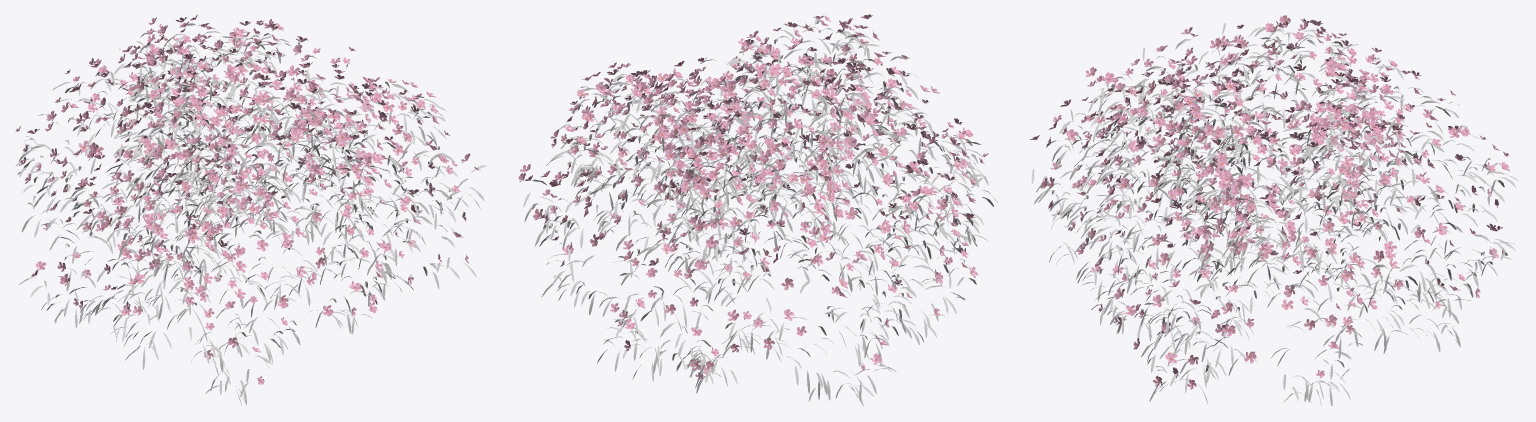
File: MESH_BS09_NeriumOleander_A_LOD2.fbx
The picture shows the model from 3 angles, left to right: view 1: azimuth 30°, elevation 25°; view 2: azimuth 150°, elevation 25°; view 3: azimuth 270°, elevation 25°; orthographic projection. The views are drawn at different scales.
Parts seen in each view (by area): view 1: MI_LOD2_001, MI_LOD2_002; view 2: MI_LOD2_001, MI_LOD2_002; view 3: MI_LOD2_001, MI_LOD2_002.
Boxes of the visible parts, x1=… form: MI_LOD2_001: x1=15, y1=23, x2=486, y2=405; MI_LOD2_002: x1=15, y1=14, x2=480, y2=384; MI_LOD2_001: x1=523, y1=18, x2=997, y2=406; MI_LOD2_002: x1=518, y1=14, x2=988, y2=380; MI_LOD2_001: x1=1031, y1=23, x2=1517, y2=406; MI_LOD2_002: x1=1029, y1=15, x2=1509, y2=389.
Size of what is drawn, in the model's own units: 362 by 262 by 358.
